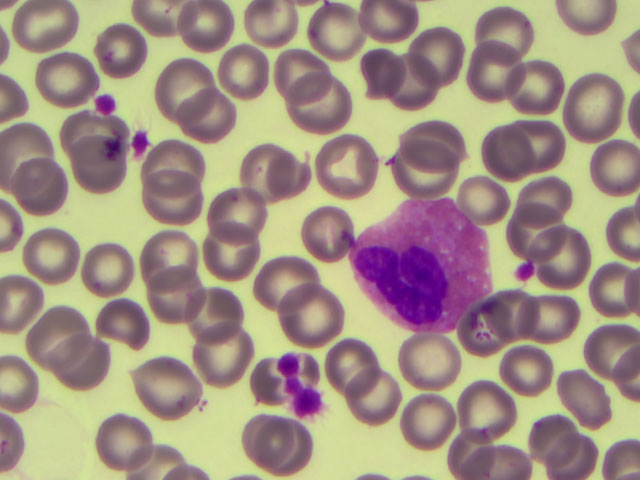Platelets: (282, 353, 319, 415), (507, 257, 535, 284), (132, 128, 152, 158), (94, 92, 117, 117)
RBC: (30, 53, 89, 109), (95, 21, 154, 77), (144, 54, 203, 110), (172, 89, 231, 145), (210, 47, 269, 103), (270, 45, 329, 101), (300, 8, 359, 64), (362, 3, 421, 59), (354, 51, 413, 107), (391, 54, 450, 110), (408, 32, 467, 88), (453, 43, 512, 99), (476, 3, 535, 59), (514, 60, 573, 116), (546, 66, 605, 122), (523, 114, 582, 170), (485, 129, 544, 185), (398, 114, 457, 170), (401, 145, 460, 201), (311, 142, 370, 198), (252, 145, 311, 201), (210, 144, 269, 200), (207, 187, 266, 243), (200, 224, 259, 280), (157, 173, 216, 229), (141, 132, 200, 188), (133, 234, 192, 290), (151, 272, 210, 328), (191, 282, 250, 338), (187, 324, 246, 380), (257, 243, 316, 299), (292, 298, 351, 354), (301, 210, 360, 266), (323, 331, 382, 387), (351, 372, 410, 428), (399, 332, 458, 388), (399, 401, 458, 457), (453, 384, 512, 440), (441, 421, 500, 477), (499, 343, 558, 399), (458, 291, 517, 347), (497, 277, 556, 333), (517, 286, 576, 342), (537, 227, 596, 283), (505, 194, 564, 250), (519, 166, 578, 222), (581, 139, 640, 195), (581, 317, 640, 373), (581, 263, 640, 319), (555, 368, 614, 424), (526, 413, 585, 469), (250, 416, 309, 472), (139, 361, 198, 417), (104, 411, 163, 467), (54, 344, 113, 400), (25, 309, 84, 365), (86, 301, 145, 357), (82, 247, 141, 303), (33, 235, 92, 291), (16, 171, 75, 227), (8, 121, 67, 177), (73, 142, 132, 198), (60, 109, 119, 165), (15, 1, 74, 56), (177, 1, 236, 56), (241, 1, 300, 56)
WBC: (353, 196, 491, 334)
